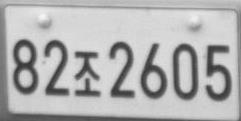0: (172, 42, 198, 100)
2: (43, 38, 70, 96), (108, 40, 135, 98)
5: (204, 44, 232, 102)
6: (139, 43, 167, 99)
8: (12, 38, 38, 95)
조: (73, 50, 100, 97)
